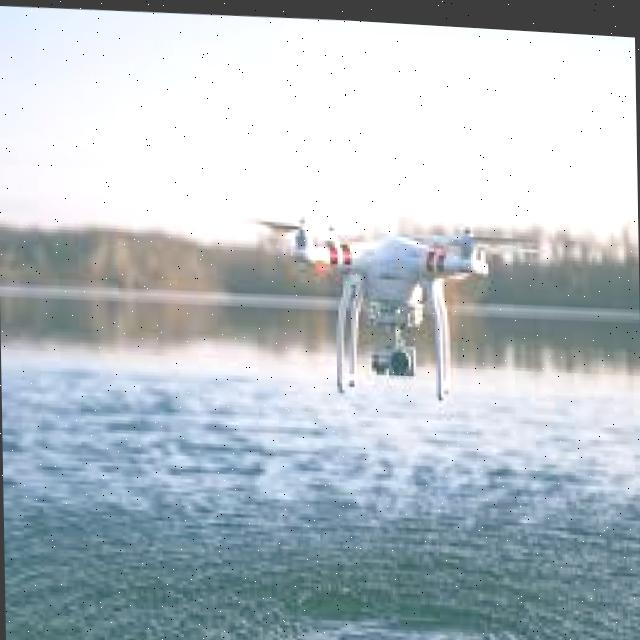drone: (230, 172, 544, 424)
